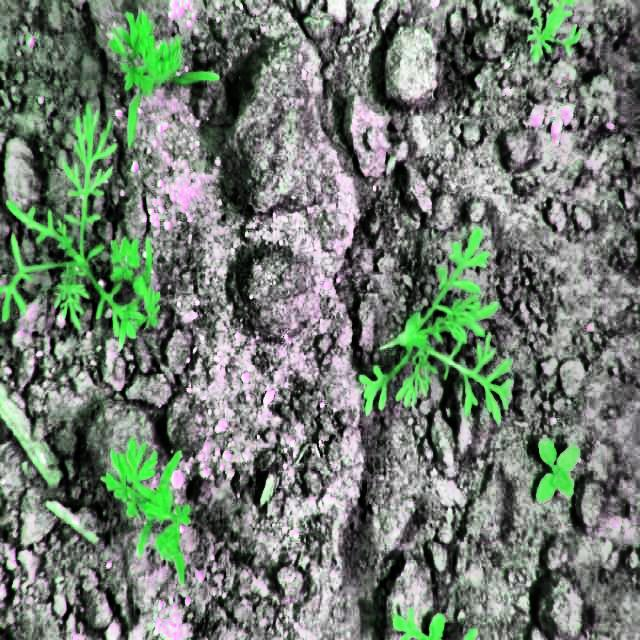Weeds: (536, 428, 580, 503)
undefined: (0, 103, 166, 351), (358, 222, 518, 427), (108, 8, 224, 146), (102, 438, 198, 581), (524, 0, 584, 66), (384, 610, 486, 639)
